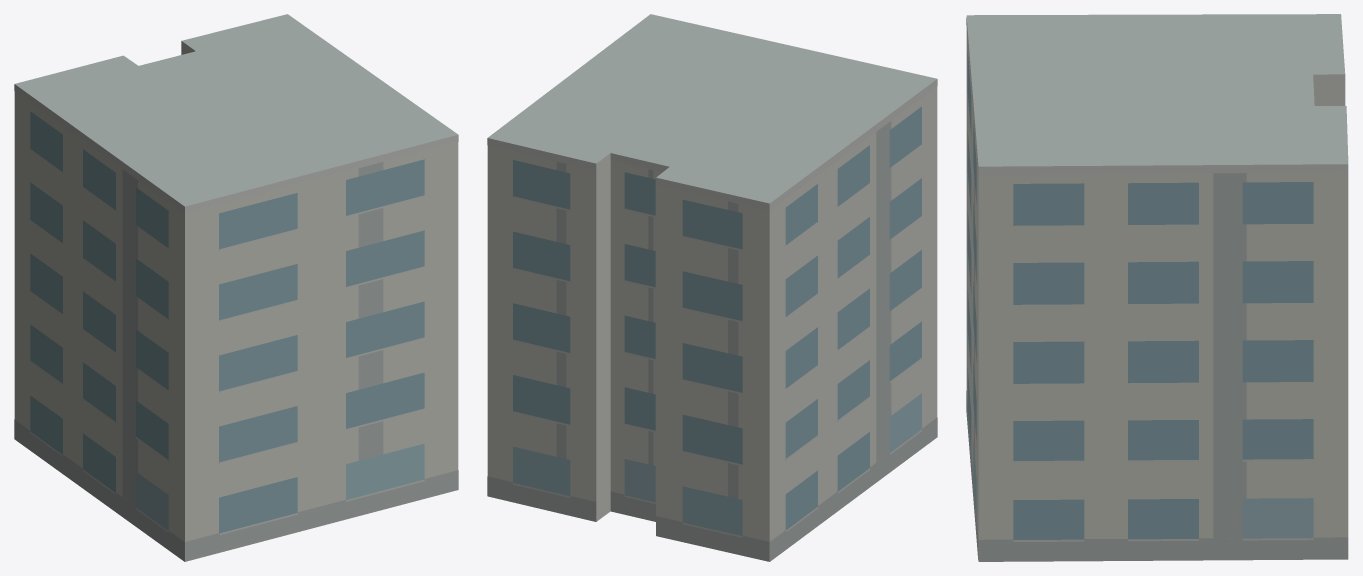
Rendered from survey-upis-32810311.glb.
3 renders of one model, left to right at view 1: azimuth 30°, elevation 25°; view 2: azimuth 150°, elevation 25°; view 3: azimuth 270°, elevation 25°, orthographic. The views are drawn at different scales.
Parts seen in each view (by area): view 1: survey-upis-32810311.tmp; view 2: survey-upis-32810311.tmp; view 3: survey-upis-32810311.tmp.
Part boxes in pixels (x1,y1,x2,y2): survey-upis-32810311.tmp: [14, 14, 458, 561]; survey-upis-32810311.tmp: [487, 14, 937, 561]; survey-upis-32810311.tmp: [966, 14, 1348, 561].
Size of the model in its own units: 9.66 by 11.65 by 10.21.
